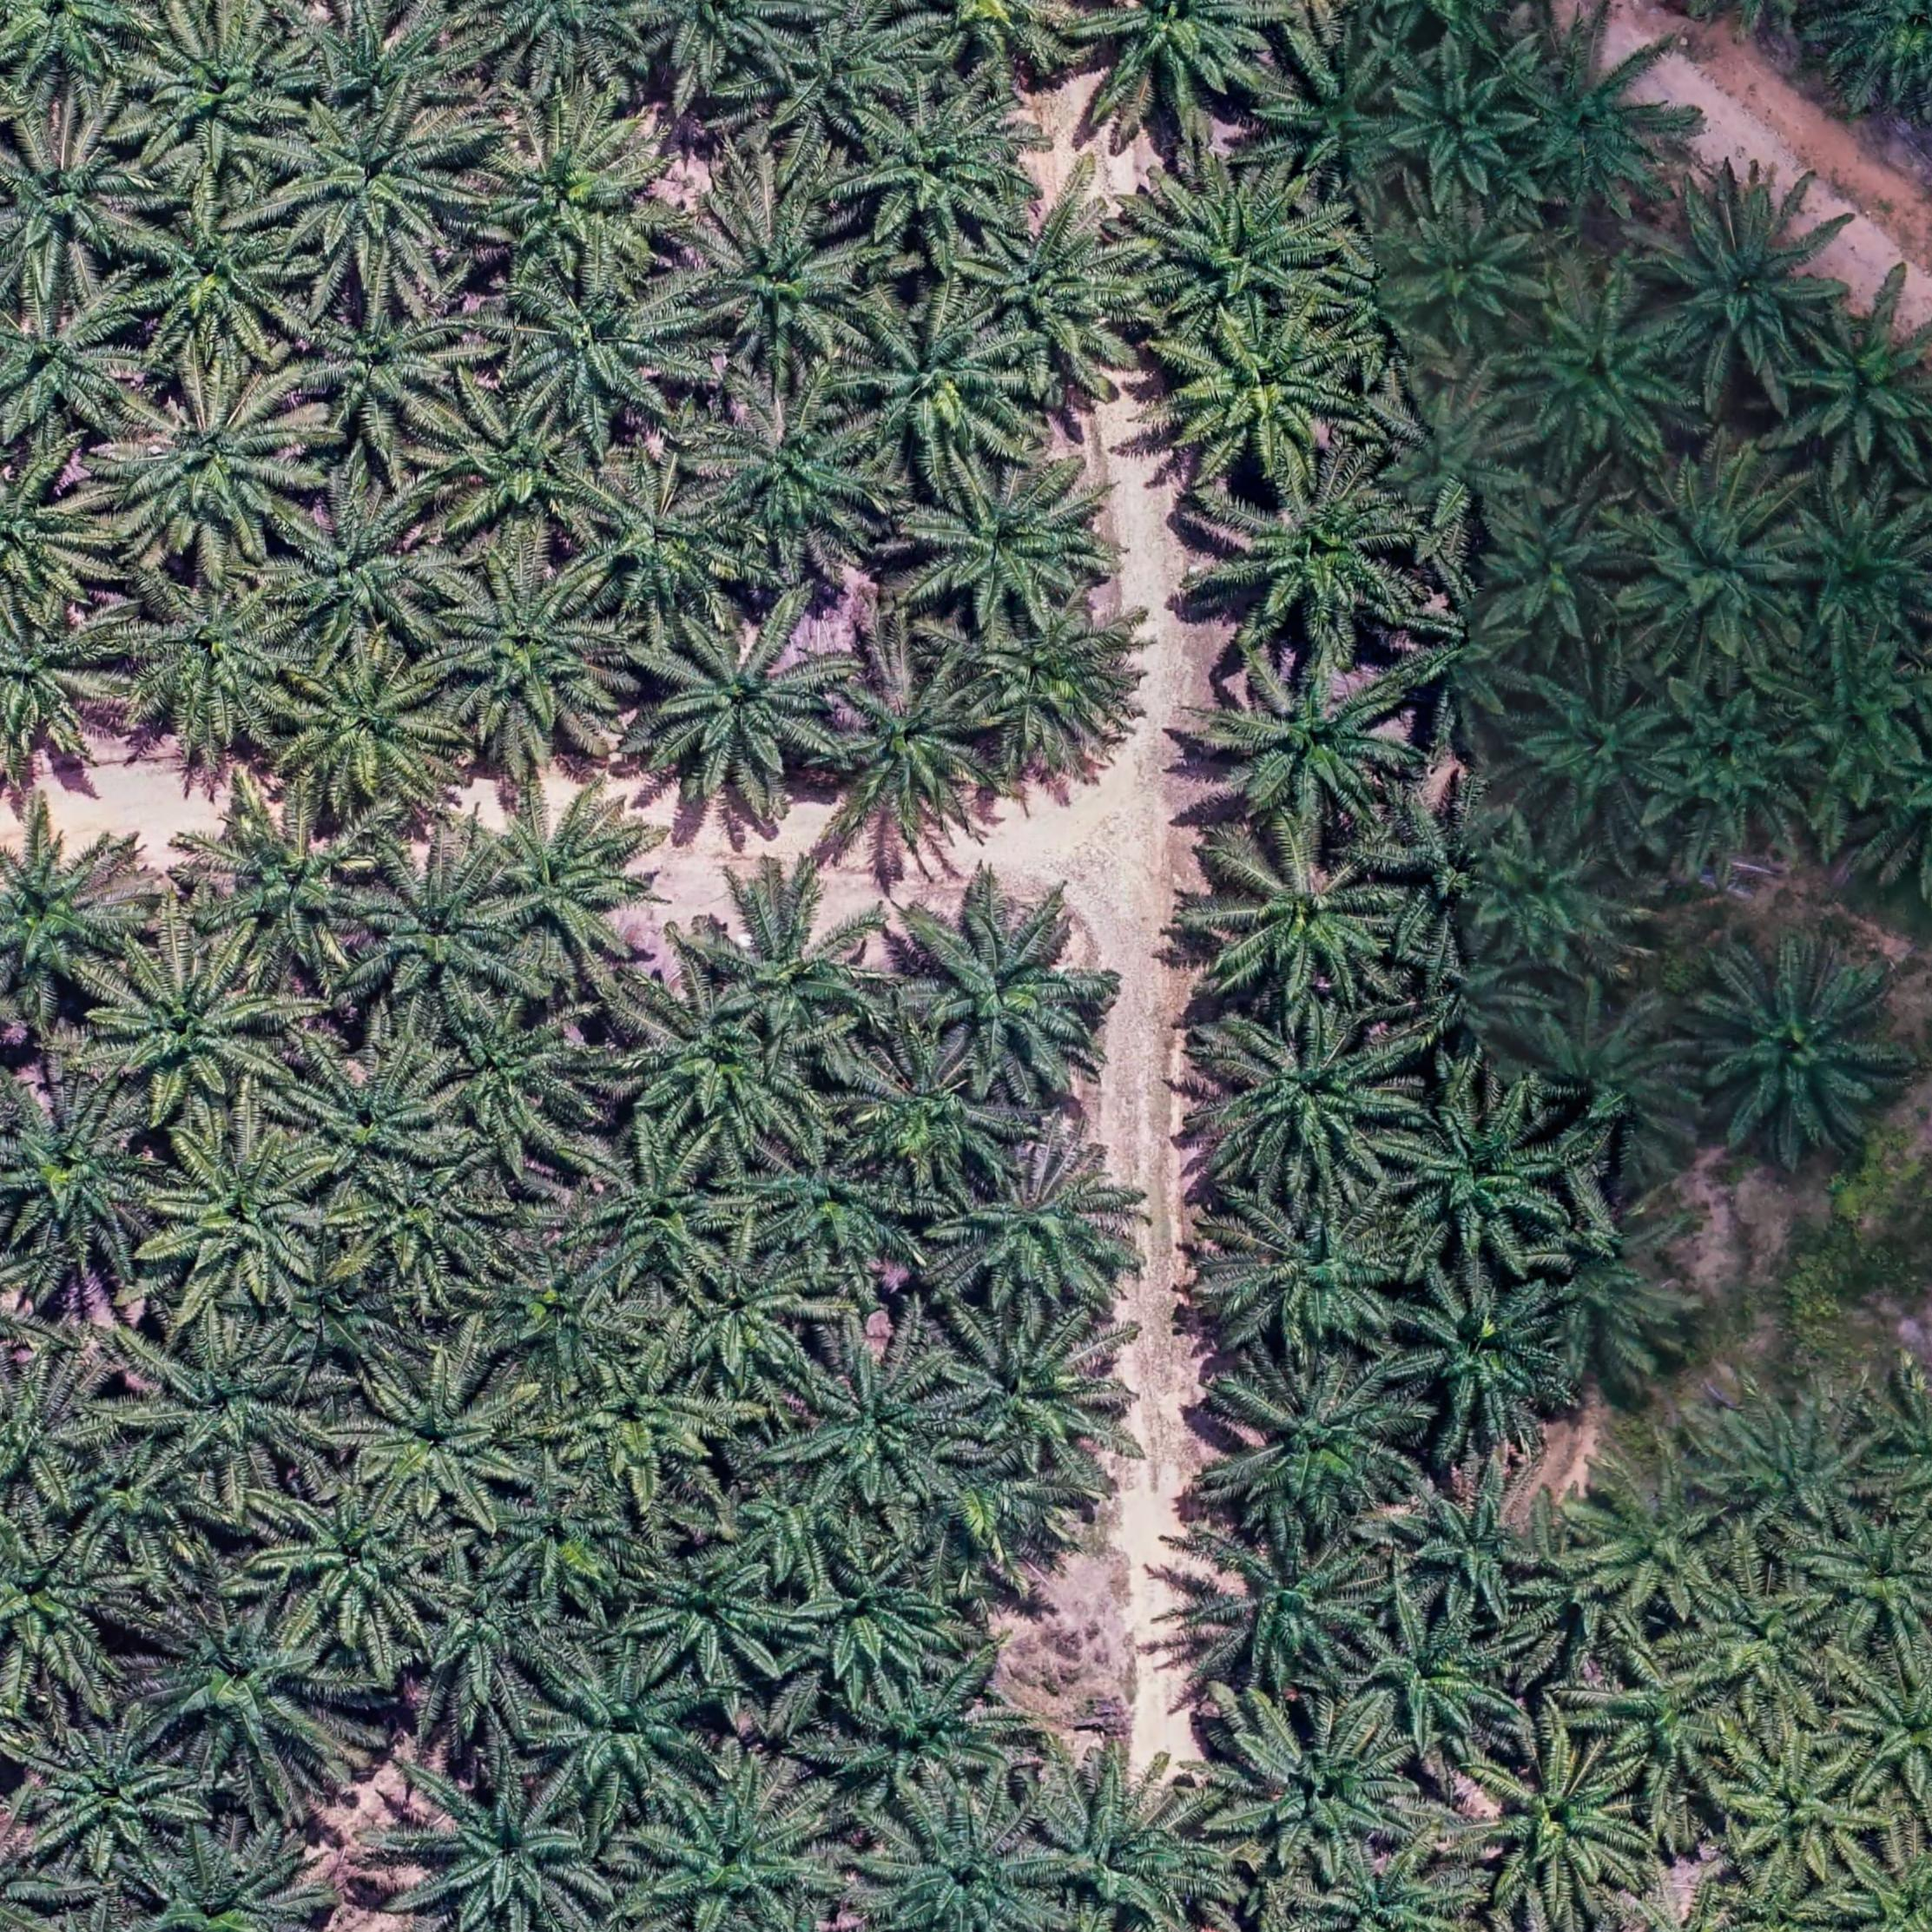palmtree: (591, 1729, 879, 1932), (1173, 823, 1424, 1051), (1631, 165, 1854, 405), (94, 349, 334, 570), (1683, 929, 1909, 1159), (975, 1730, 1224, 1930), (1187, 993, 1417, 1194), (1605, 455, 1822, 667), (1378, 1063, 1589, 1274), (602, 966, 830, 1159), (1208, 448, 1422, 651), (414, 540, 612, 757), (690, 370, 897, 577), (83, 918, 287, 1123), (246, 1481, 462, 1672), (1194, 1177, 1424, 1355), (633, 591, 828, 801), (895, 892, 1099, 1088), (375, 1755, 600, 1932), (1201, 656, 1428, 832), (1507, 639, 1681, 865), (180, 787, 382, 982), (265, 104, 469, 297), (1150, 306, 1371, 483), (281, 255, 467, 464), (688, 166, 872, 377), (393, 1548, 603, 1732), (1460, 1727, 1656, 1923), (814, 1642, 1024, 1824), (1051, 4, 1297, 159), (823, 1014, 1039, 1191), (127, 1315, 322, 1509), (1134, 166, 1357, 334), (1210, 1348, 1407, 1537), (902, 446, 1104, 630), (474, 87, 658, 287), (111, 563, 299, 755), (932, 1139, 1136, 1316), (341, 1343, 531, 1532), (566, 442, 754, 633), (1391, 1254, 1560, 1460), (487, 251, 678, 433), (1502, 37, 1697, 214), (1509, 260, 1684, 455), (345, 842, 534, 1021), (941, 602, 1132, 778), (1212, 1511, 1407, 1684), (163, 1111, 333, 1309), (428, 372, 612, 554), (1359, 761, 1536, 950), (2, 1072, 156, 1288), (777, 1327, 962, 1506), (456, 784, 639, 964), (844, 288, 1024, 471), (149, 1589, 326, 1773), (1773, 639, 1932, 842), (1231, 1686, 1403, 1874), (945, 1297, 1139, 1460), (842, 88, 1023, 264), (1644, 669, 1813, 855), (957, 195, 1141, 363), (1364, 34, 1541, 207), (1514, 1198, 1672, 1392), (743, 1120, 925, 1288), (276, 474, 441, 660), (2, 824, 140, 1046), (1698, 1718, 1875, 1888), (1566, 1631, 1746, 1798), (817, 653, 985, 830), (527, 1640, 706, 1806), (271, 644, 449, 809), (1771, 299, 1932, 481), (640, 1228, 835, 1378), (0, 99, 145, 301), (775, 1513, 943, 1684), (4, 297, 165, 476), (326, 1132, 487, 1311), (12, 1707, 191, 1867), (1780, 481, 1932, 667), (419, 980, 609, 1129), (127, 189, 304, 347), (858, 1798, 1065, 1932), (1557, 1461, 1746, 1608), (464, 1224, 637, 1380), (556, 1336, 732, 1488), (709, 869, 851, 1053), (1460, 823, 1615, 989), (584, 1120, 747, 1277), (1672, 1564, 1828, 1729), (0, 1500, 127, 1698), (283, 1042, 458, 1185), (1258, 25, 1414, 179), (1698, 1401, 1886, 1527), (140, 7, 295, 157), (1380, 368, 1530, 520), (755, 5, 927, 138), (0, 573, 106, 780), (478, 1463, 632, 1603), (630, 1536, 771, 1686), (1481, 492, 1621, 644), (1366, 1614, 1506, 1762), (133, 1826, 324, 1930), (1813, 1486, 1932, 1654), (1396, 207, 1541, 343), (1399, 1476, 1529, 1624), (0, 1353, 111, 1509), (1840, 1651, 1932, 1810), (1269, 1863, 1474, 1932), (495, 0, 658, 78), (0, 449, 88, 589), (308, 4, 428, 106), (0, 0, 136, 80)
